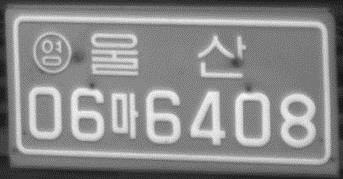0: (232, 91, 272, 148), (26, 84, 63, 140)
4: (188, 89, 227, 148)
6: (144, 87, 183, 145), (68, 86, 105, 143)
8: (279, 92, 316, 149)
마: (110, 90, 139, 139)
영: (32, 30, 72, 75)
울산_D: (88, 31, 247, 80)
